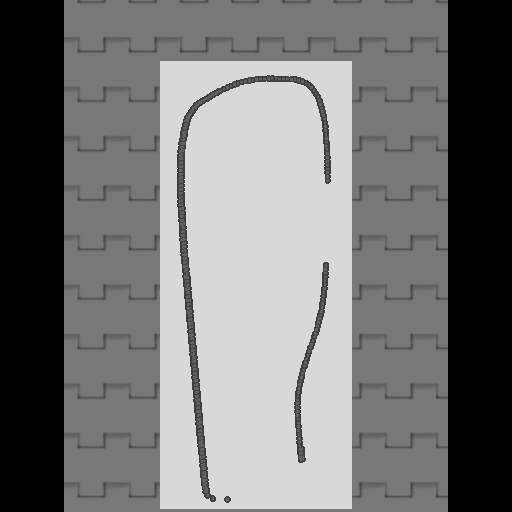Defect: (316, 177, 339, 267)
